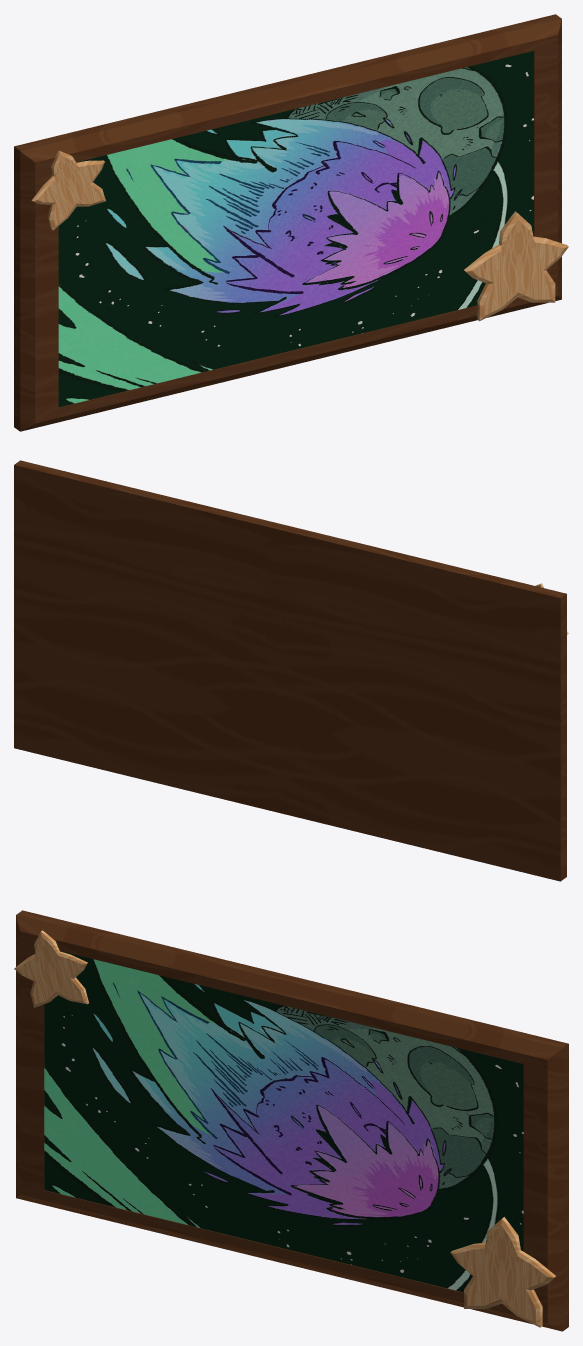
File: picture_frame.fbx
3 renders of one model, top to bottom at view 1: azimuth 30°, elevation 25°; view 2: azimuth 150°, elevation 25°; view 3: azimuth 330°, elevation 25°, orthographic.
Parts seen in each view (by area): view 1: picture_frame; view 2: picture_frame; view 3: picture_frame.
Boxes of the visible parts, x1,y1,x2,y2 form: picture_frame: (14,14,568,431); picture_frame: (14,460,568,881); picture_frame: (14,910,568,1331).
Size of the model in its own units: 20.67 by 10.23 by 0.9965.
